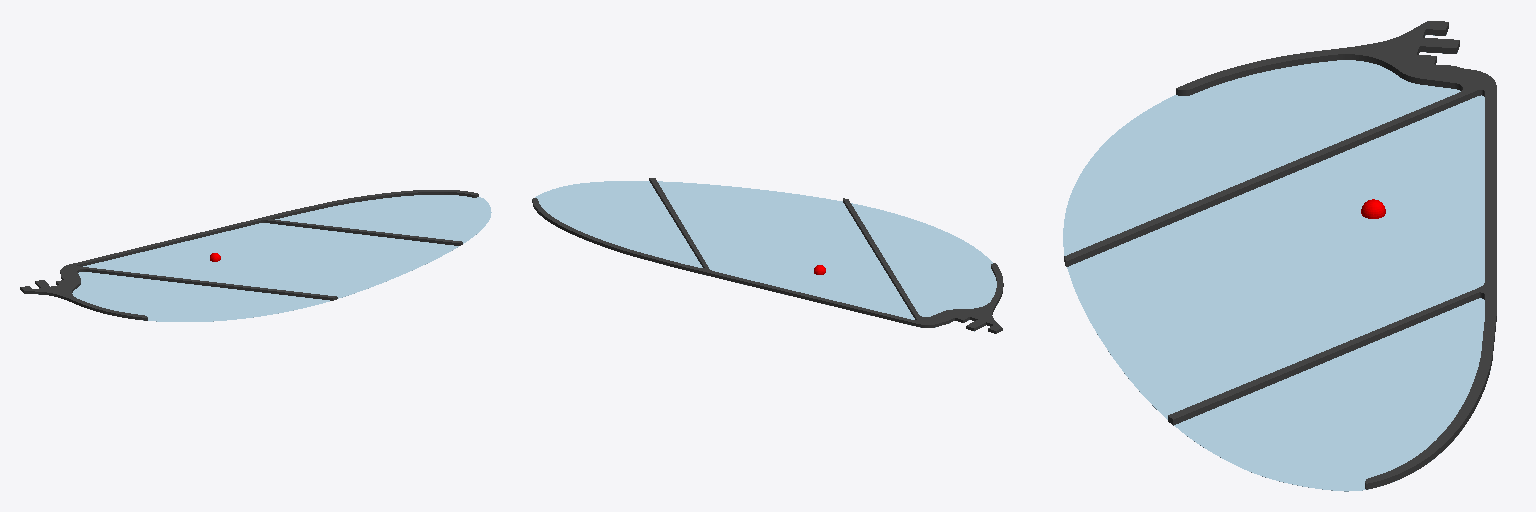
robot.urdf — wing_asy_visualizer:
<!-- Debug-only URDF for standalone visualizers. Do not use for simulation. -->
<robot name="wing_asy_visualizer">
    <link name="part_1">
        <inertial>
            <mass value="3.83835e-10" />
            <origin xyz="-0.00151305 0.00117934 4e-05" rpy="0 -0 0" />
            <inertia ixx="0" ixy="0" ixz="0" iyy="5.9244e-15" iyz="0" izz="6.59347e-15" />
        </inertial>
        <visual>
            <origin xyz="0 0 0" rpy="0 -0 0" />
            <geometry>
                <mesh filename="../meshes/Part_1.obj" scale="1 1 1" />
            </geometry>
            <material name="0.301961_0.301961_0.301961_0.000000_0.000000">
                <color rgba="0.301961 0.301961 0.301961 1" />
            </material>
        </visual>
    </link>
    <link name="part_1_1">
        <inertial>
            <mass value="8.16534e-11" />
            <origin xyz="0.00677543 -0.00179668 -7.5e-07" rpy="0 -0 0" />
            <inertia ixx="0" ixy="0" ixz="0" iyy="0" iyz="0" izz="1.01421e-15" />
        </inertial>
        <visual>
            <origin xyz="0.00679779 -0.00217114 -1.5e-06" rpy="0 -0 0" />
            <geometry>
                <mesh filename="../meshes/Part_1_1.obj" scale="1 1 1" />
            </geometry>
            <material name="0.768627_0.886275_0.952941_0.000000_0.901961">
                <color rgba="0.768627 0.886275 0.952941 0.0980392" />
            </material>
        </visual>
    </link>
    <link name="root" />
    <link name="center_of_mass_marker">
        <visual>
            <origin xyz="0 0 0" rpy="0 0 0" />
            <geometry>
                <sphere radius="0.00015" />
            </geometry>
            <material name="com_red">
                <color rgba="1 0 0 1" />
            </material>
        </visual>
    </link>
    <joint name="fastened_1" type="fixed">
        <origin xyz="-0.00661946 0.00191632 2.03288e-20" rpy="0 -0 0" />
        <axis xyz="0 0 -1" />
        <parent link="part_1" />
        <child link="part_1_1" />
    </joint>
    <joint name="fixed_node_to_root_joint" type="fixed">
        <origin xyz="0.00122028 -0.000993447 -3.285e-05" rpy="0 -0 0" />
        <axis xyz="0 0 1" />
        <parent link="root" />
        <child link="part_1" />
    </joint>
    <joint name="center_of_mass_marker_joint" type="fixed">
        <origin xyz="0 0 0" rpy="0 0 0" />
        <parent link="root" />
        <child link="center_of_mass_marker" />
    </joint>
</robot>

--- Render facts (derived) ---
Views: 3 orthographic renders of the robot side by side, from view 1: azimuth 30°, elevation 25°; view 2: azimuth 150°, elevation 25°; view 3: azimuth 270°, elevation 25°.
Robot: wing_asy_visualizer — 4 links, 3 joints (3 fixed); root link root; default pose: all joints at 0.
Visible links, largest first — view 1: part_1_1, part_1; view 2: part_1_1, part_1; view 3: part_1_1, part_1.
Boxes of the visible links, x1,y1,x2,y2 form: part_1_1: (38, 195, 491, 321); part_1: (20, 190, 478, 320); part_1_1: (535, 181, 997, 331); part_1: (532, 178, 1003, 333); part_1_1: (1063, 34, 1490, 491); part_1: (1064, 21, 1496, 489).
Bounding box of the posed robot: 0.0135 × 0.0053 × 0.0003 m (x, y, z).
2 mesh visuals loaded from 2 distinct referenced files (2 OBJ).
